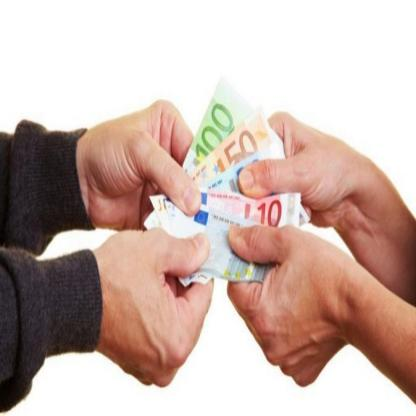billete: (141, 74, 312, 288)
